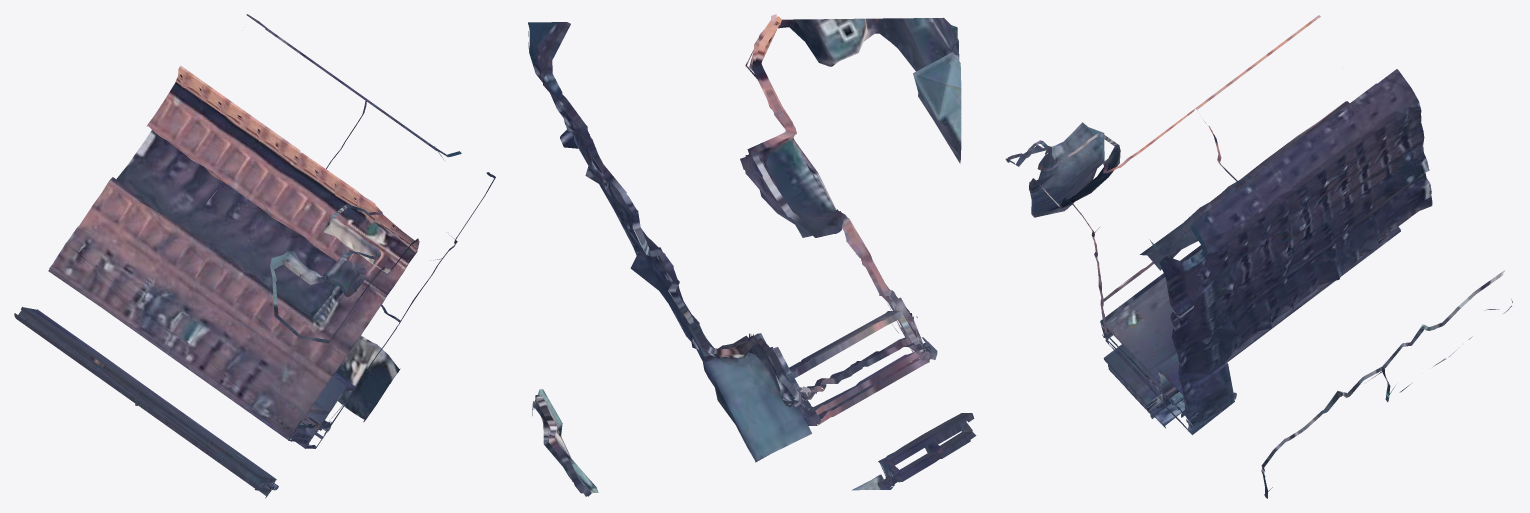
3 views of the same model, side by side, from view 1: azimuth 30°, elevation 25°; view 2: azimuth 150°, elevation 25°; view 3: azimuth 270°, elevation 25° (orthographic). The views are drawn at different scales.
Bounding box in the file's own units: 54.66 × 50.6 × 58.16.
3 materials, 3 textured.
